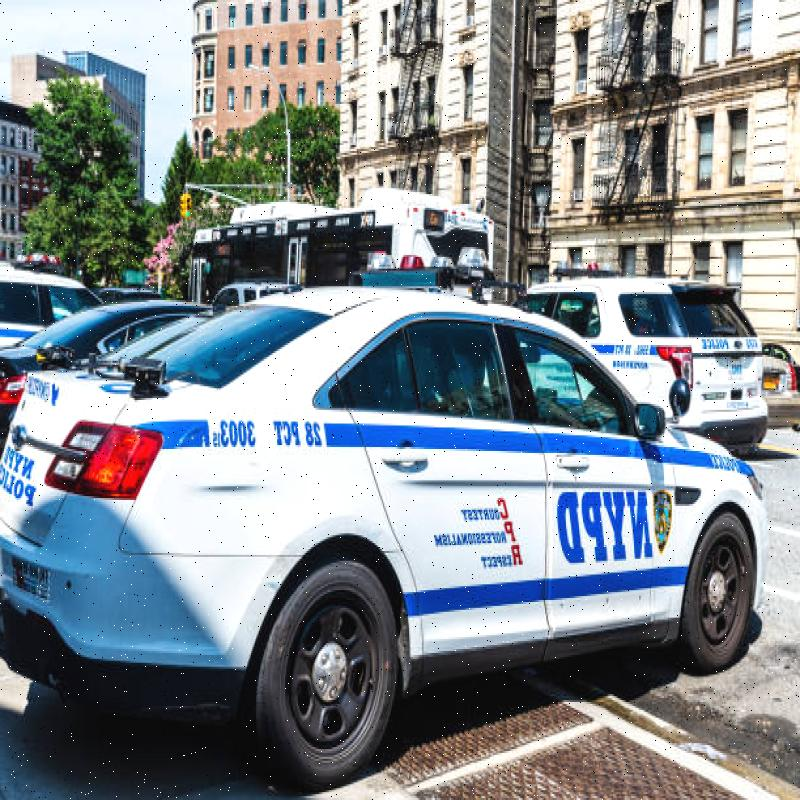AmbulanceSiren: (187, 169, 519, 299)
